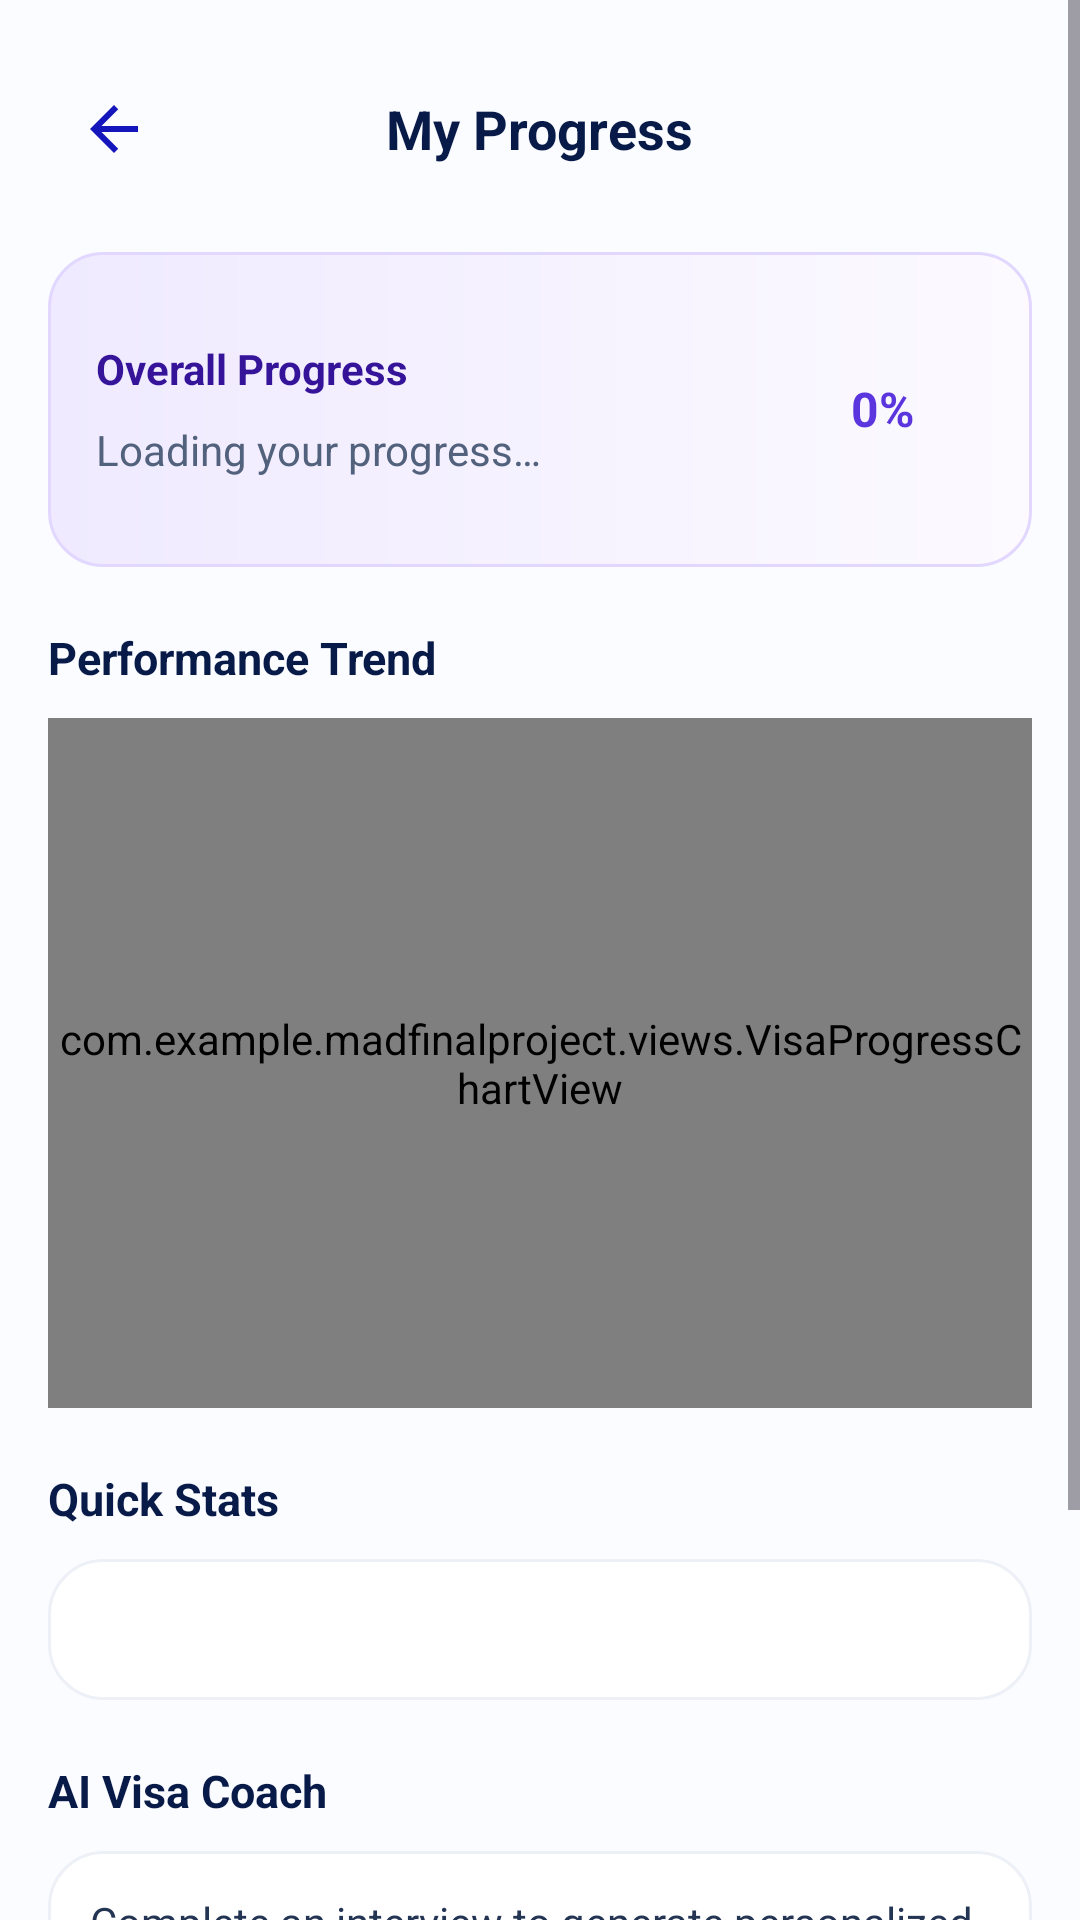

Where to tap for icons on this 1080×1920 app screen, as [x,y]:
Back: [114,129]
